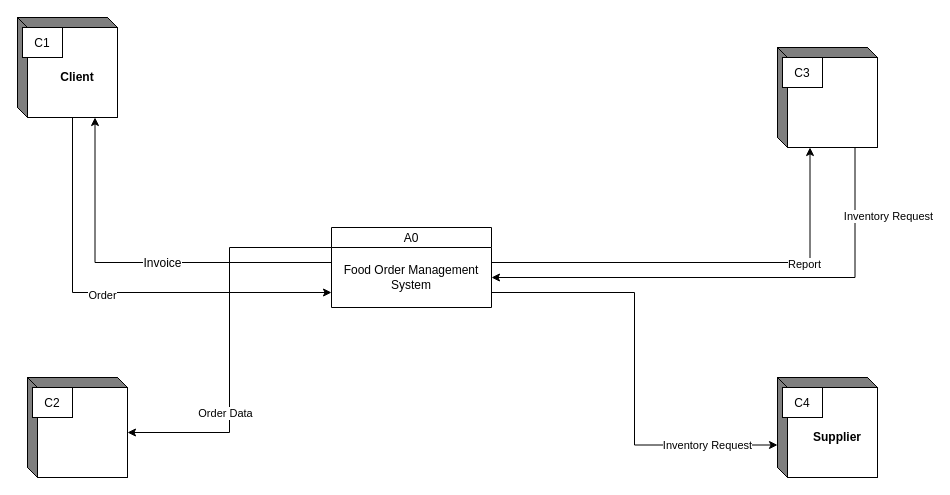
This 950x495 diagram has some shape labels left out. The centre of each missing label's shape, as x and y in pixels:
"Kitchen" belongs at [77,427].
"Manager" belongs at [827,97].
